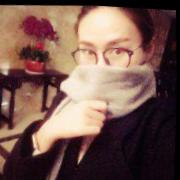WRONG: (75, 29, 143, 108)
